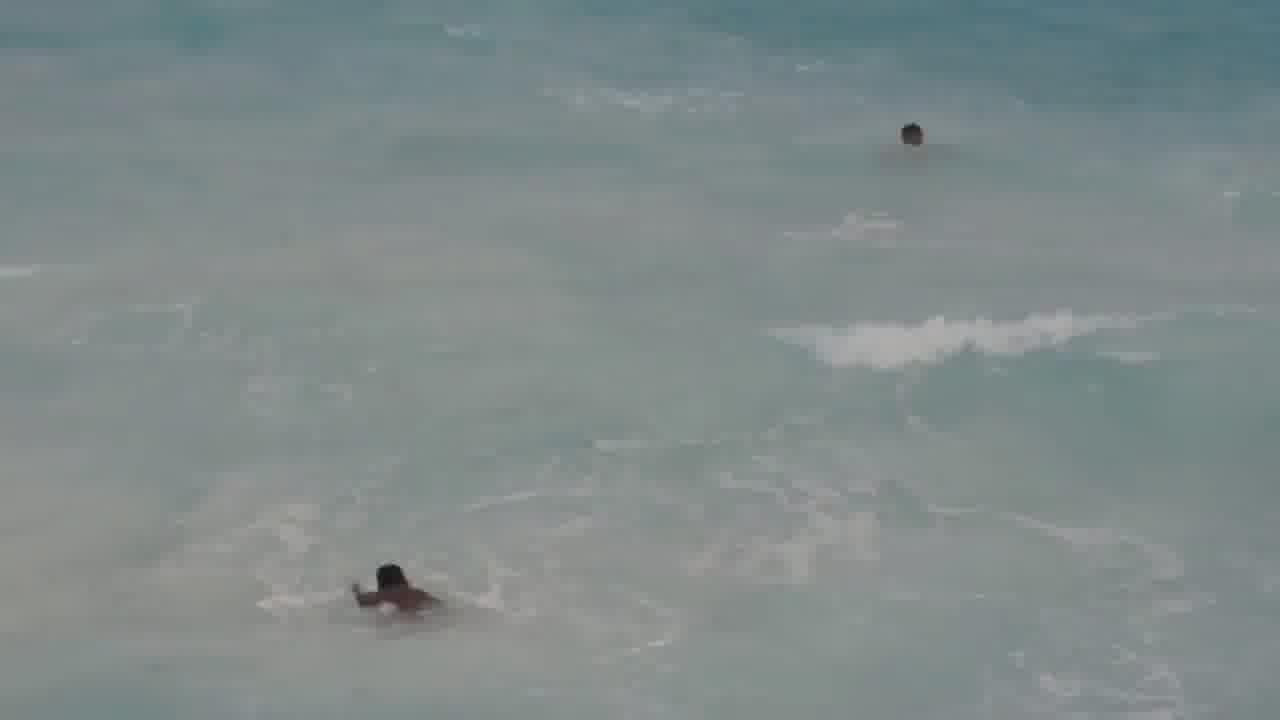swimmer: (336, 554, 449, 619), (878, 108, 942, 160)
